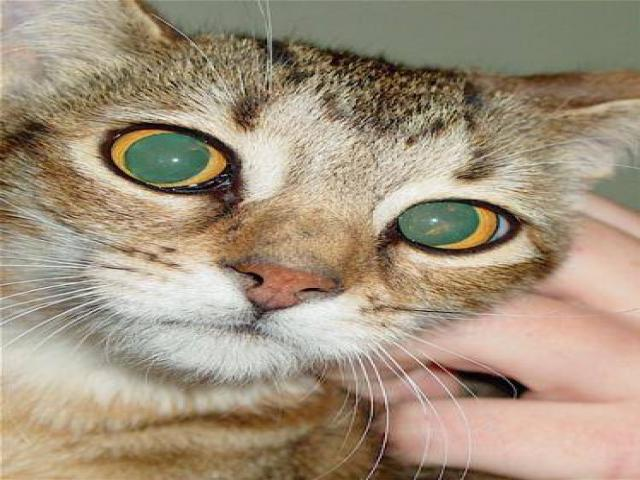cat: (3, 5, 638, 454)
